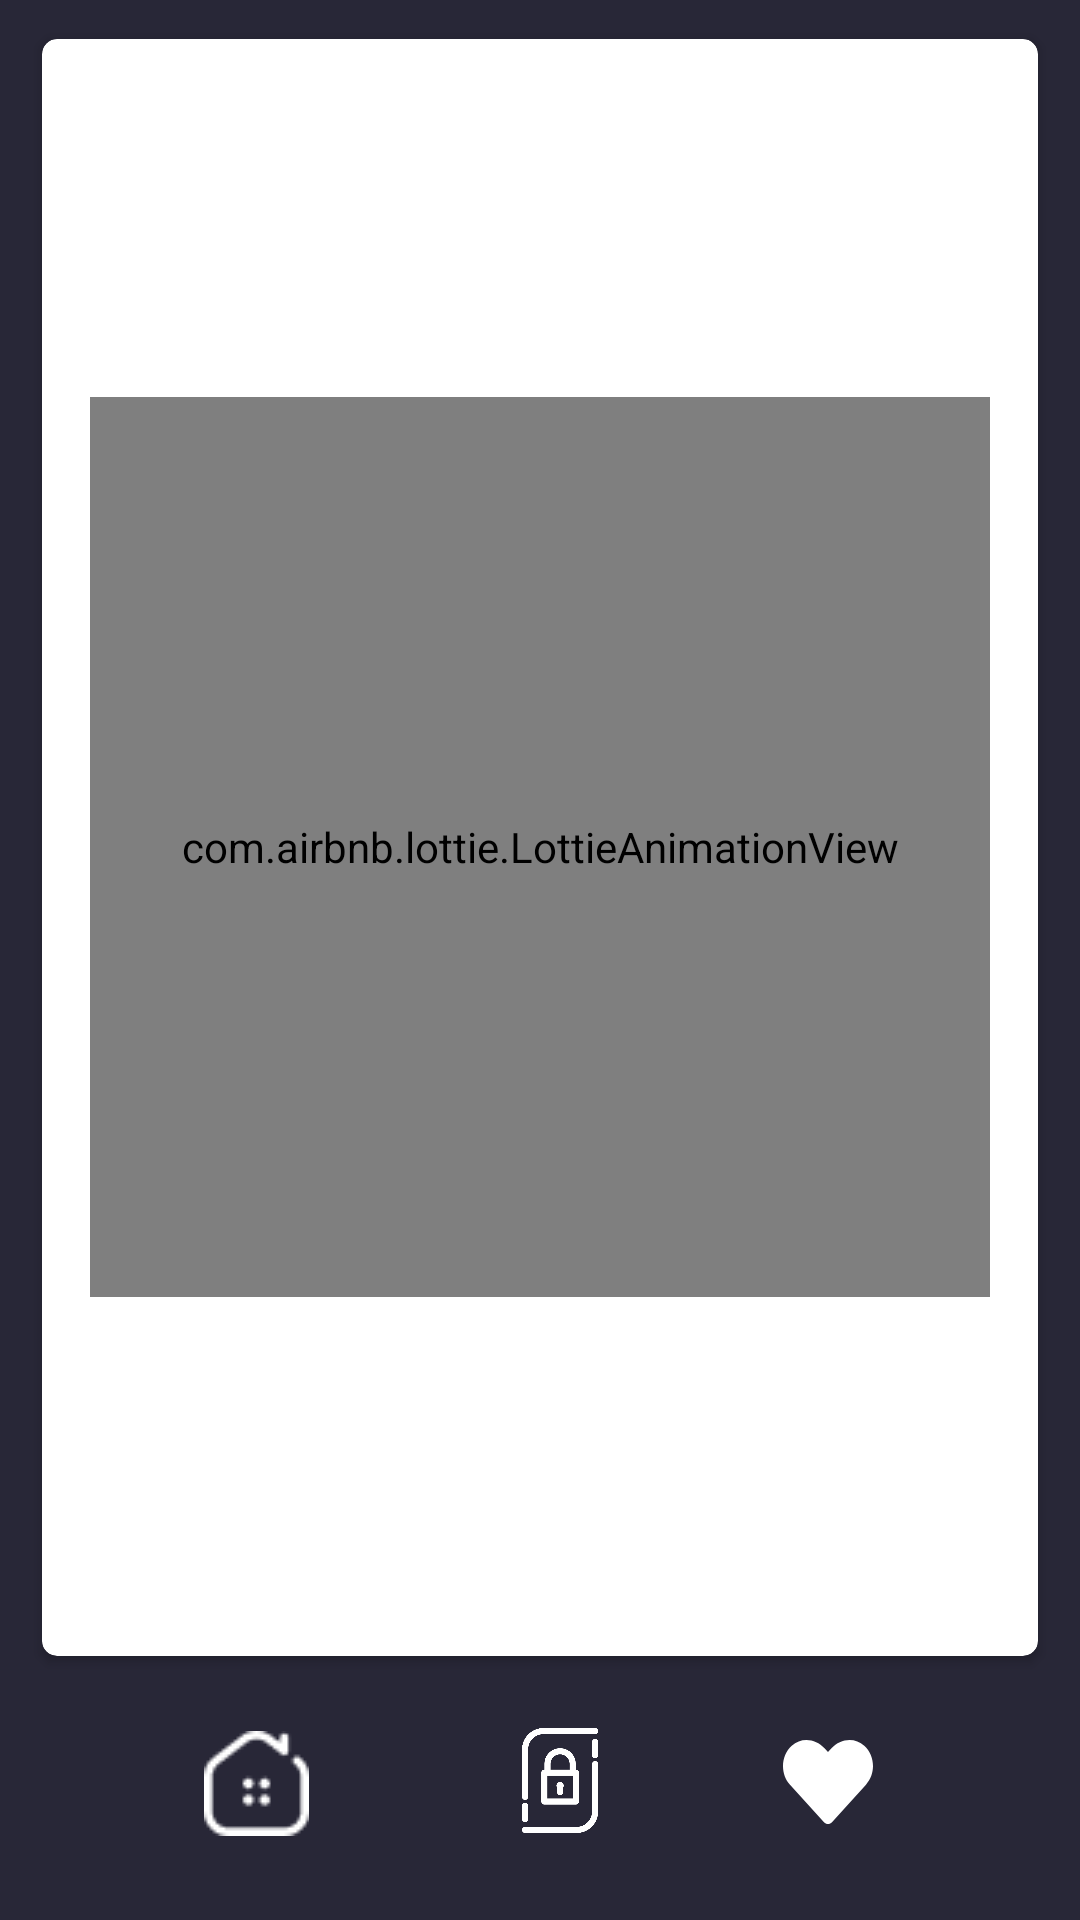

Screen size 1080*1920. Icon name, then its center in pixels as point (x, y):
heart: point (828, 1782)
home: point (256, 1783)
lock screen: point (560, 1780)
